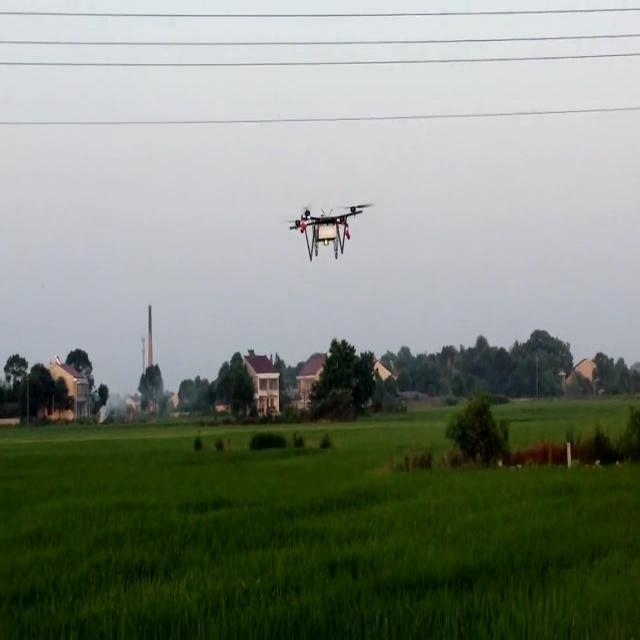UAV: (285, 203, 375, 262)
